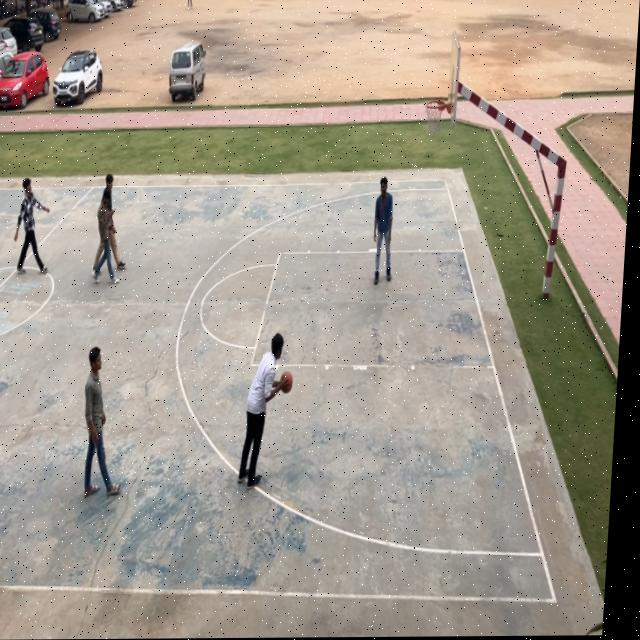basketball: (279, 367, 296, 395)
hoop: (424, 98, 446, 137)
